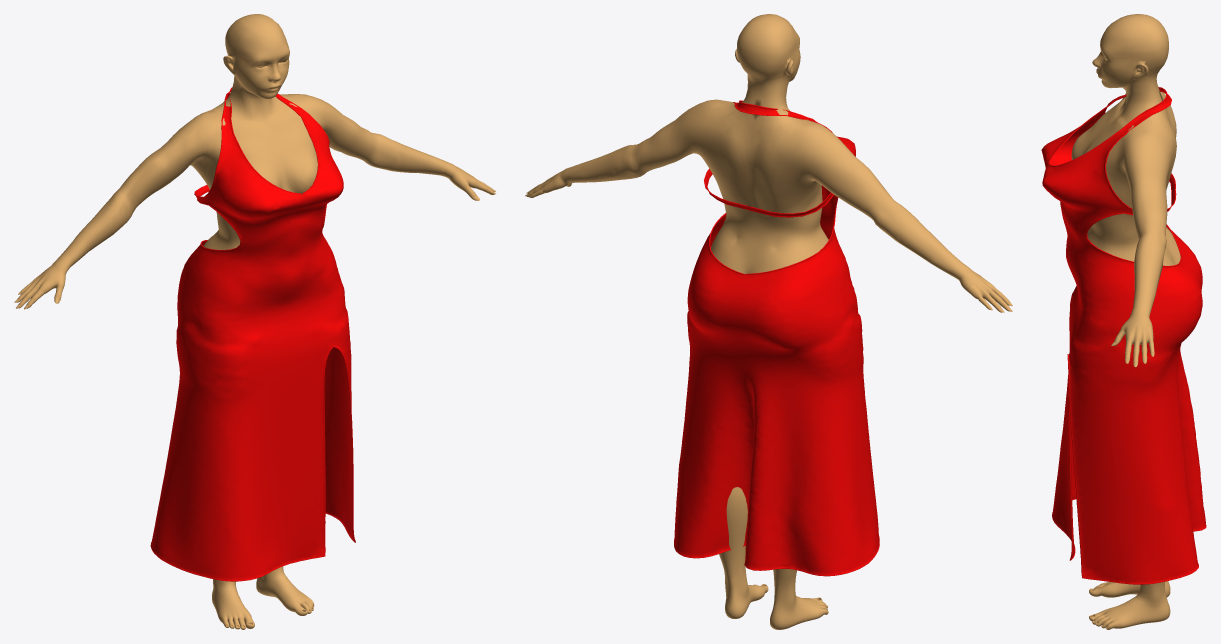
File: dress3.glb
3 renders of one model, left to right at view 1: azimuth 30°, elevation 25°; view 2: azimuth 150°, elevation 25°; view 3: azimuth 270°, elevation 25°, orthographic.
Visible parts, largest first — view 1: EveningDress, Body.003; view 2: EveningDress, Body.003; view 3: EveningDress, Body.003.
Part boxes in pixels (x1,y1,x2,y2): EveningDress: (150, 87, 355, 581); Body.003: (17, 14, 495, 629); EveningDress: (674, 100, 879, 576); Body.003: (526, 14, 1010, 629); EveningDress: (1041, 87, 1206, 584); Body.003: (1071, 14, 1180, 629).
Size of the model in its own units: 1.58 by 1.85 by 0.467.
